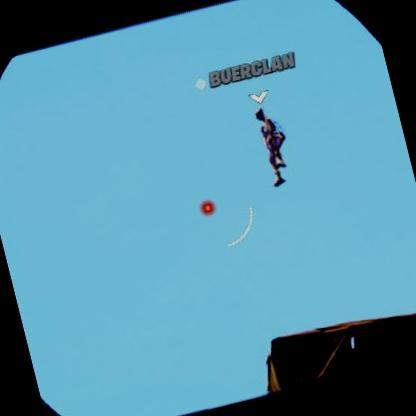person: (249, 102, 304, 186)
